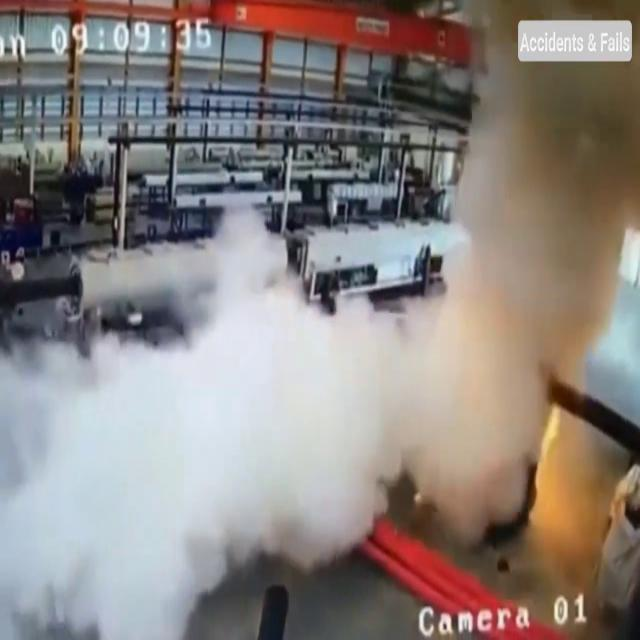Smoke: (2, 196, 414, 618), (426, 0, 640, 540)
